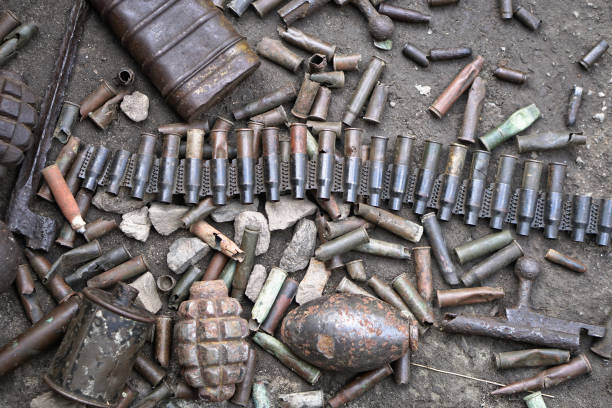e1: (177, 280, 252, 403)
